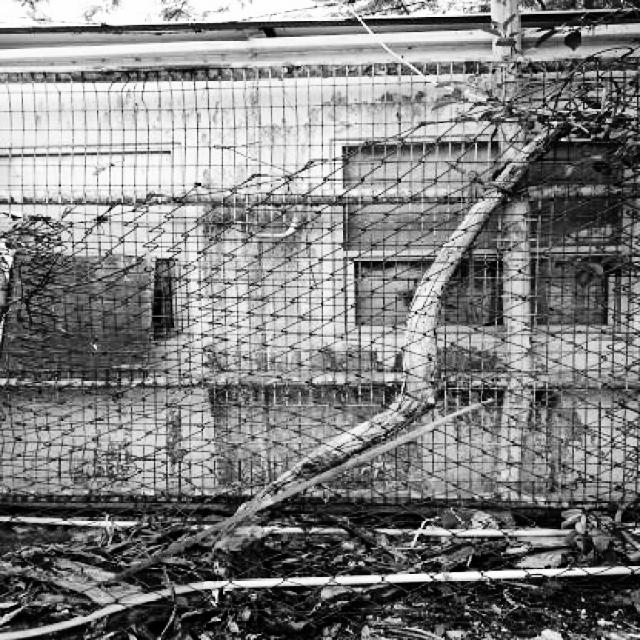anomaly-fence: (173, 254, 635, 566), (4, 178, 132, 350)
fences: (24, 55, 640, 145)
